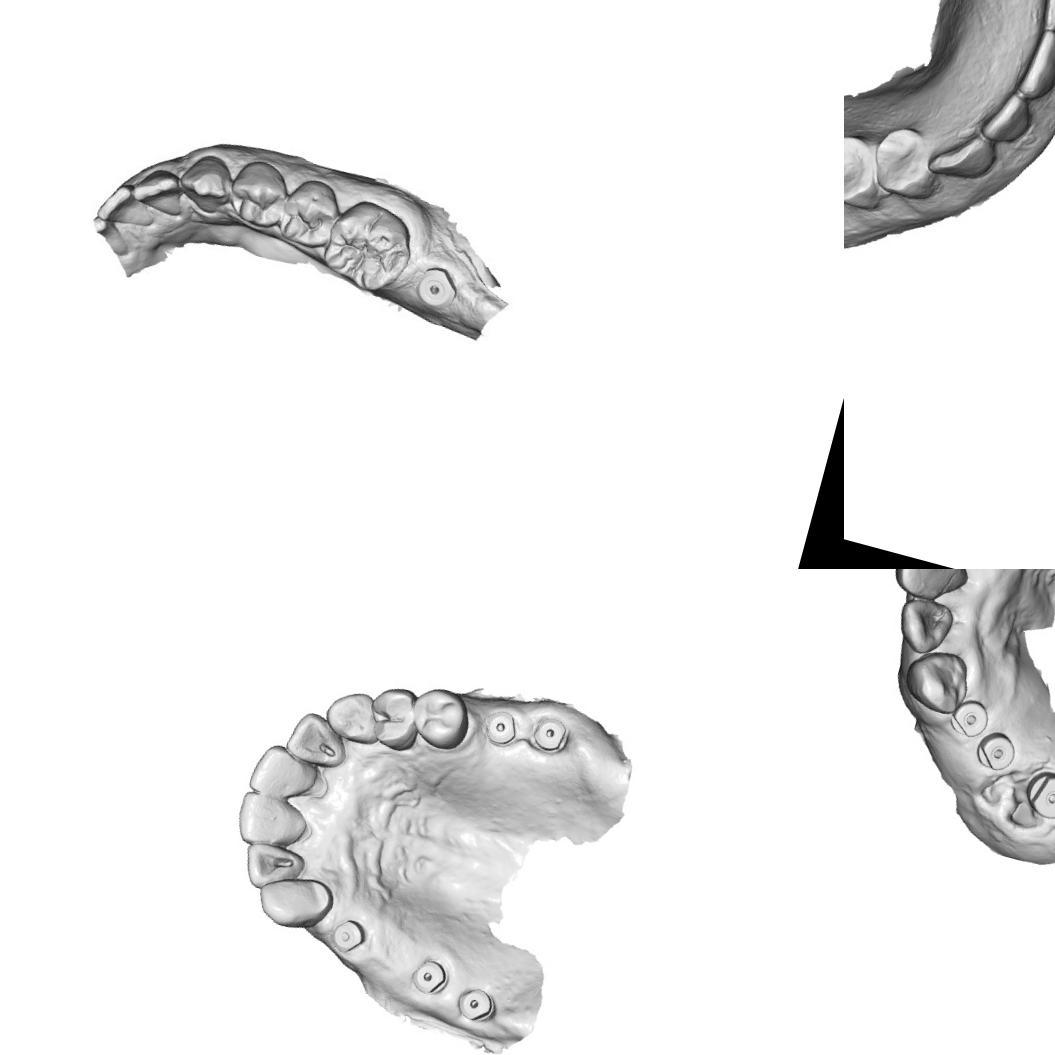canine: (894, 640, 976, 720), (250, 865, 336, 939), (924, 116, 1001, 187), (176, 145, 242, 219), (317, 682, 389, 748)
implant: (409, 258, 463, 316), (452, 980, 501, 1028), (971, 726, 1020, 774), (946, 693, 992, 742), (476, 704, 524, 750), (326, 912, 372, 960), (1018, 765, 1055, 823), (405, 954, 452, 998), (527, 713, 571, 756)
incisor: (227, 788, 315, 858), (280, 704, 356, 773), (244, 739, 322, 805), (889, 591, 958, 660), (235, 836, 309, 900), (94, 177, 164, 236), (980, 86, 1040, 150), (884, 569, 978, 608), (1010, 25, 1055, 106), (128, 162, 188, 220), (1030, 0, 1055, 35)
molar: (314, 192, 424, 301)
premolar: (864, 121, 946, 204), (220, 154, 296, 235), (402, 681, 478, 756), (273, 172, 342, 253), (358, 680, 427, 754), (844, 126, 890, 213)
